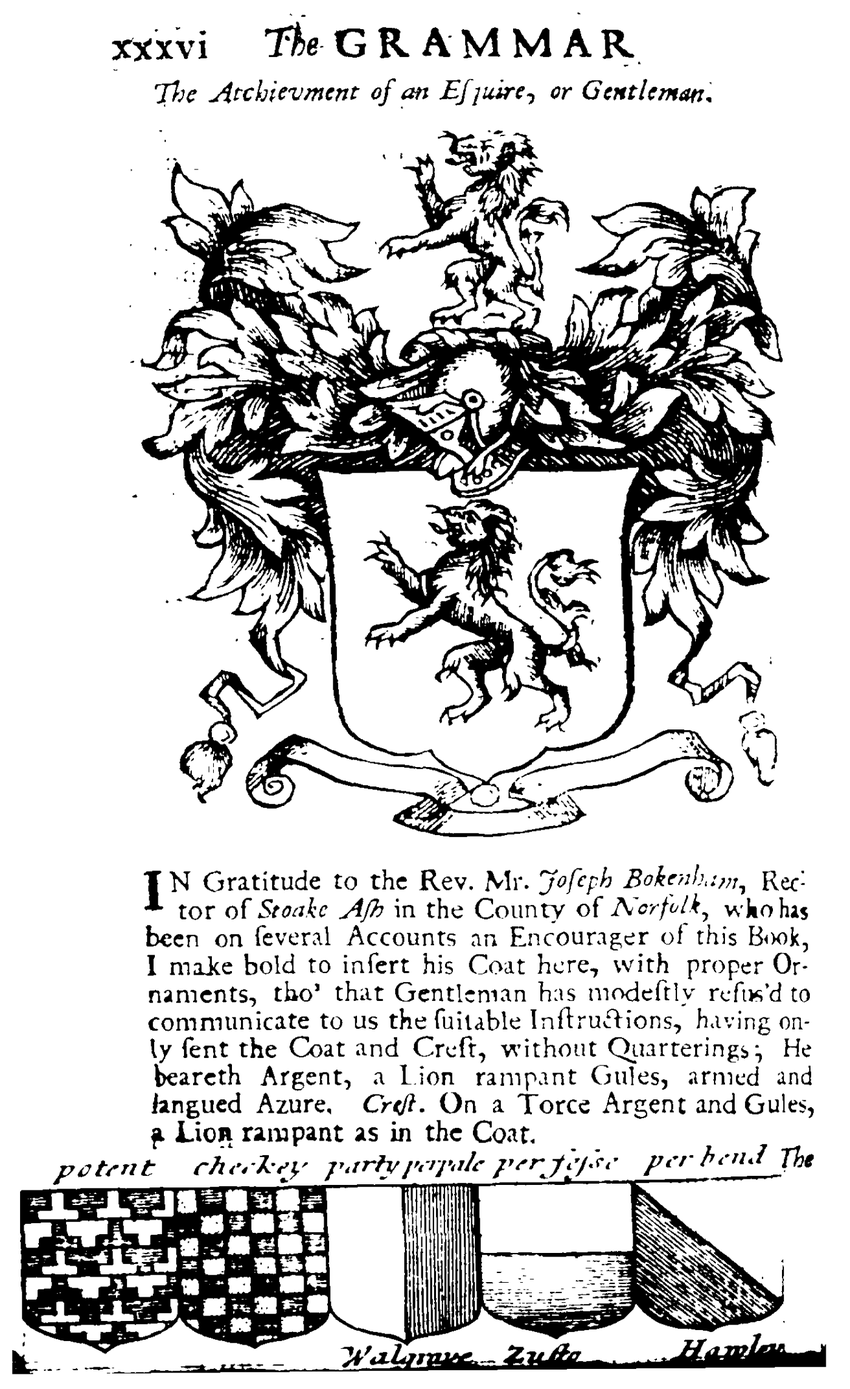coat_of_arms: (140, 69, 824, 841)
